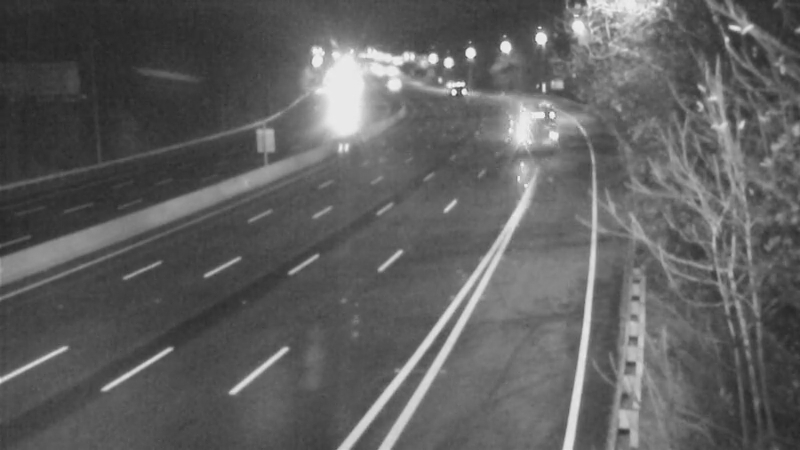vehicle: (366, 59, 416, 109), (428, 61, 478, 111), (509, 91, 559, 141), (313, 85, 363, 135)
